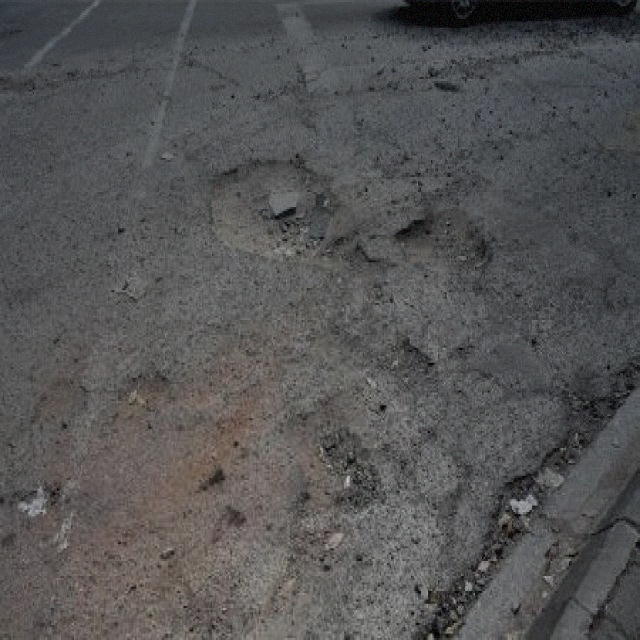pothole: (414, 399, 638, 638), (204, 153, 346, 264), (393, 205, 492, 290), (290, 427, 383, 514)
